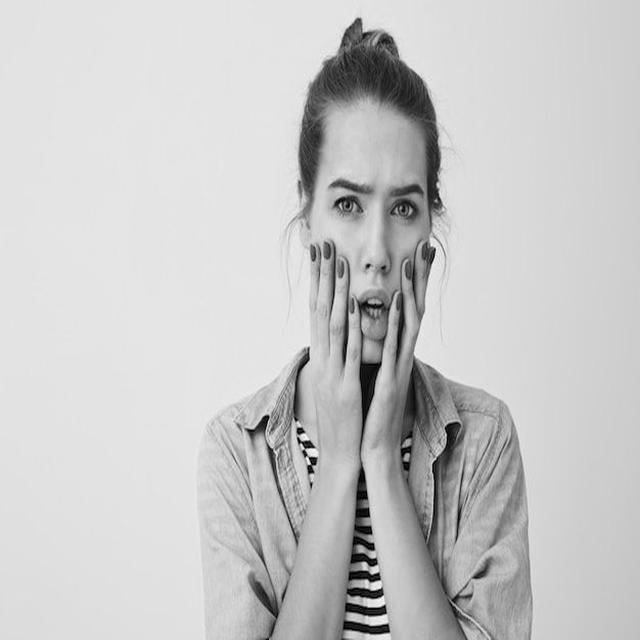Fear: (310, 108, 430, 362)
